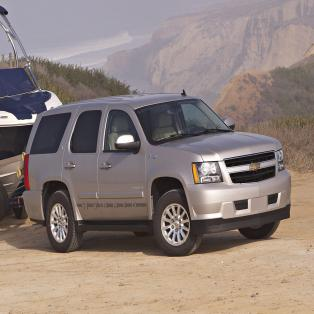Auto: (21, 87, 292, 258)
